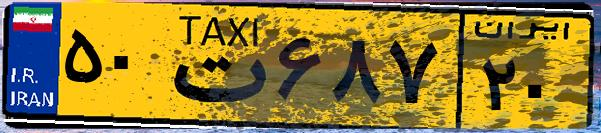0: (525, 38, 570, 115), (110, 28, 158, 98)
2: (475, 38, 525, 113)
5: (57, 26, 110, 100)
6: (270, 28, 330, 110)
7: (385, 28, 445, 110)
8: (330, 28, 385, 110)
ت: (158, 12, 270, 120)
